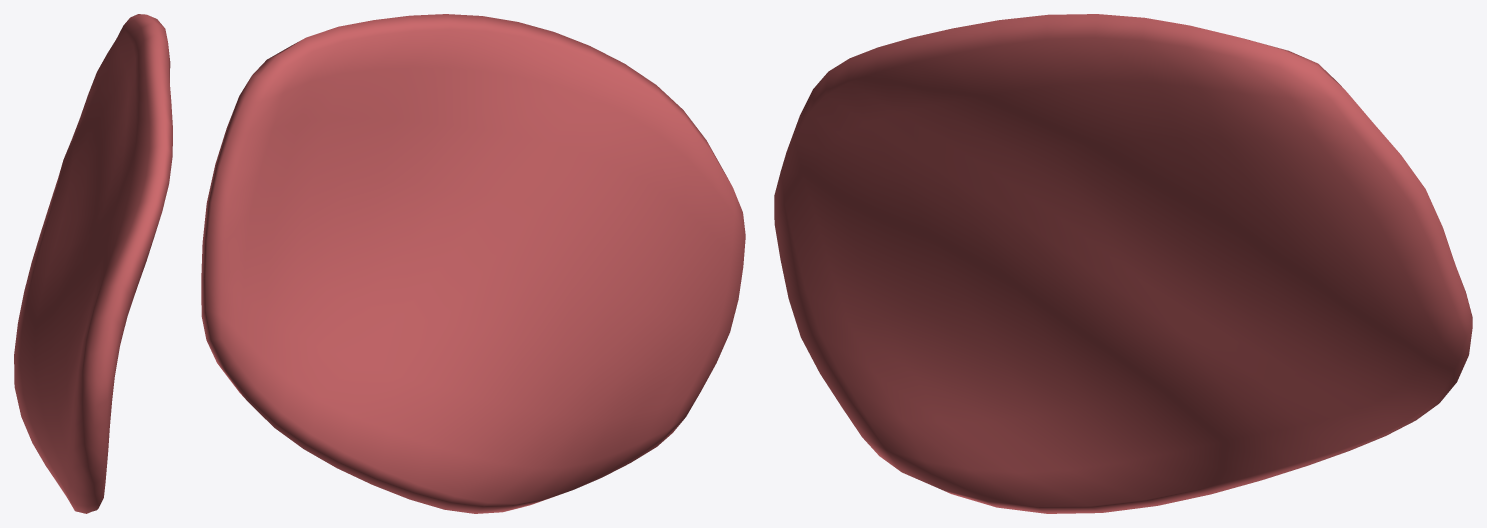
The picture shows the model from 3 angles, left to right: view 1: azimuth 30°, elevation 25°; view 2: azimuth 150°, elevation 25°; view 3: azimuth 270°, elevation 25°; orthographic projection. The views are drawn at different scales.
Parts seen in each view (by area): view 1: 右侧胫骨前肌腱下囊; view 2: 右侧胫骨前肌腱下囊; view 3: 右侧胫骨前肌腱下囊.
Part boxes in pixels (box(x1,y1,x2,y2)): 右侧胫骨前肌腱下囊: box(14, 14, 172, 513); 右侧胫骨前肌腱下囊: box(201, 14, 745, 513); 右侧胫骨前肌腱下囊: box(774, 14, 1472, 513).
Bounding box in the file's own units: 0.0111 × 0.017 × 0.0183.
